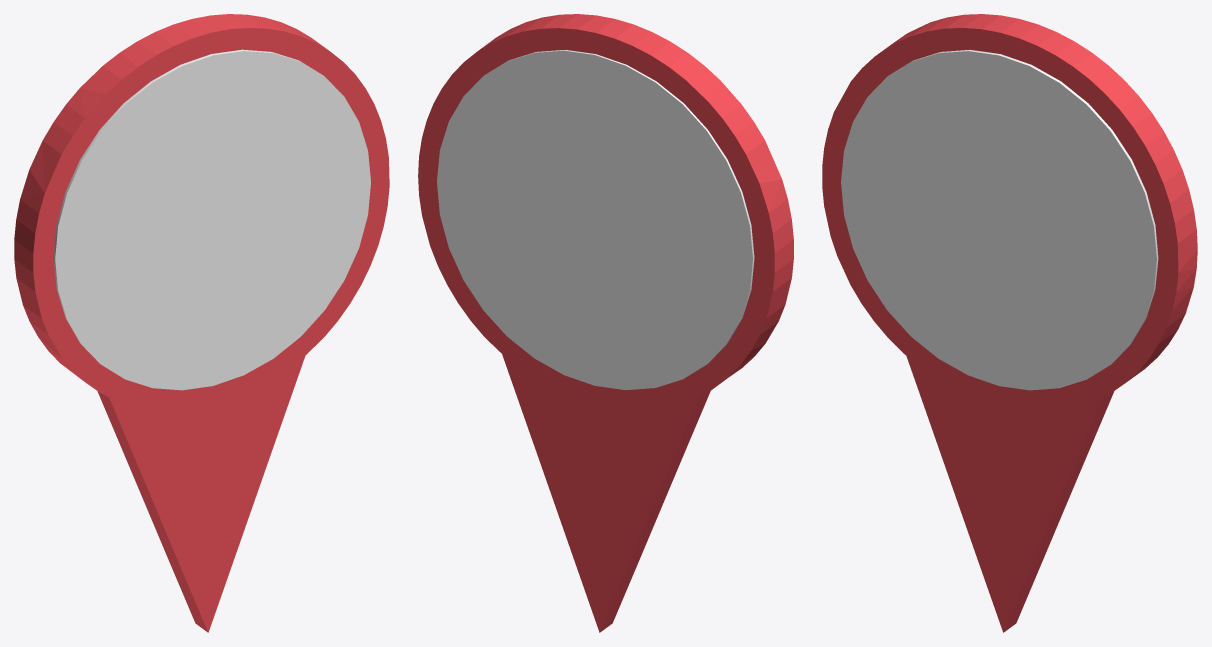
File: pin3d.glb
3 views of the same model, side by side, from view 1: azimuth 30°, elevation 25°; view 2: azimuth 150°, elevation 25°; view 3: azimuth 330°, elevation 25° (orthographic).
Visible parts, largest first — view 1: Cylinder1, CylinderRed, sting; view 2: Cylinder1, CylinderRed, sting; view 3: Cylinder1, CylinderRed, sting.
Part boxes in pixels (x1,y1,x2,y2): Cylinder1: (53, 49, 370, 390); CylinderRed: (14, 14, 389, 411); sting: (97, 356, 305, 632); Cylinder1: (437, 50, 754, 390); CylinderRed: (418, 14, 793, 410); sting: (502, 354, 710, 632); Cylinder1: (841, 49, 1158, 390); CylinderRed: (822, 14, 1197, 411); sting: (906, 356, 1114, 632).
Size of the model in its own units: 13.99 by 22.58 by 1.5.
